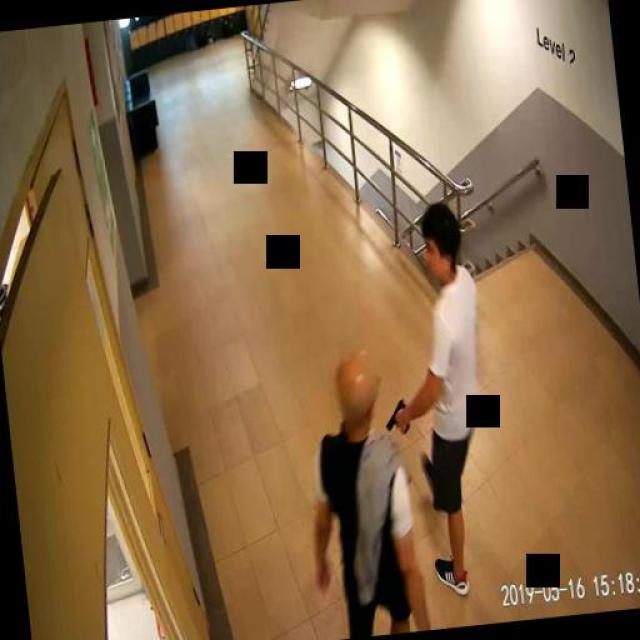gun: (382, 396, 408, 434)
